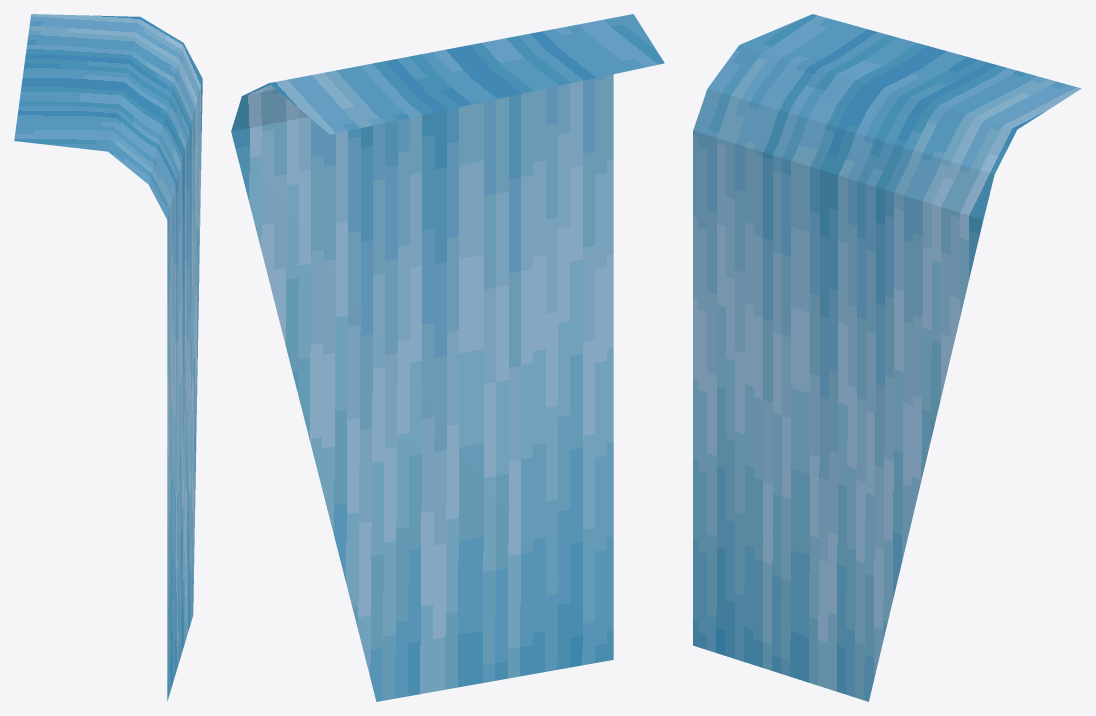
File: special-257.glb
The picture shows the model from 3 angles, left to right: view 1: azimuth 30°, elevation 25°; view 2: azimuth 150°, elevation 25°; view 3: azimuth 270°, elevation 25°; orthographic projection. The views are drawn at different scales.
Visible parts, largest first — view 1: special-257; view 2: special-257; view 3: special-257.
Part boxes in pixels (x1=…): special-257: x1=14, y1=14, x2=202, y2=701; special-257: x1=231, y1=14, x2=664, y2=701; special-257: x1=693, y1=14, x2=1081, y2=701.
Bounding box in the file's own units: 1.15 × 2.22 × 1.35.
Materials: 1 (1 with a texture image).
